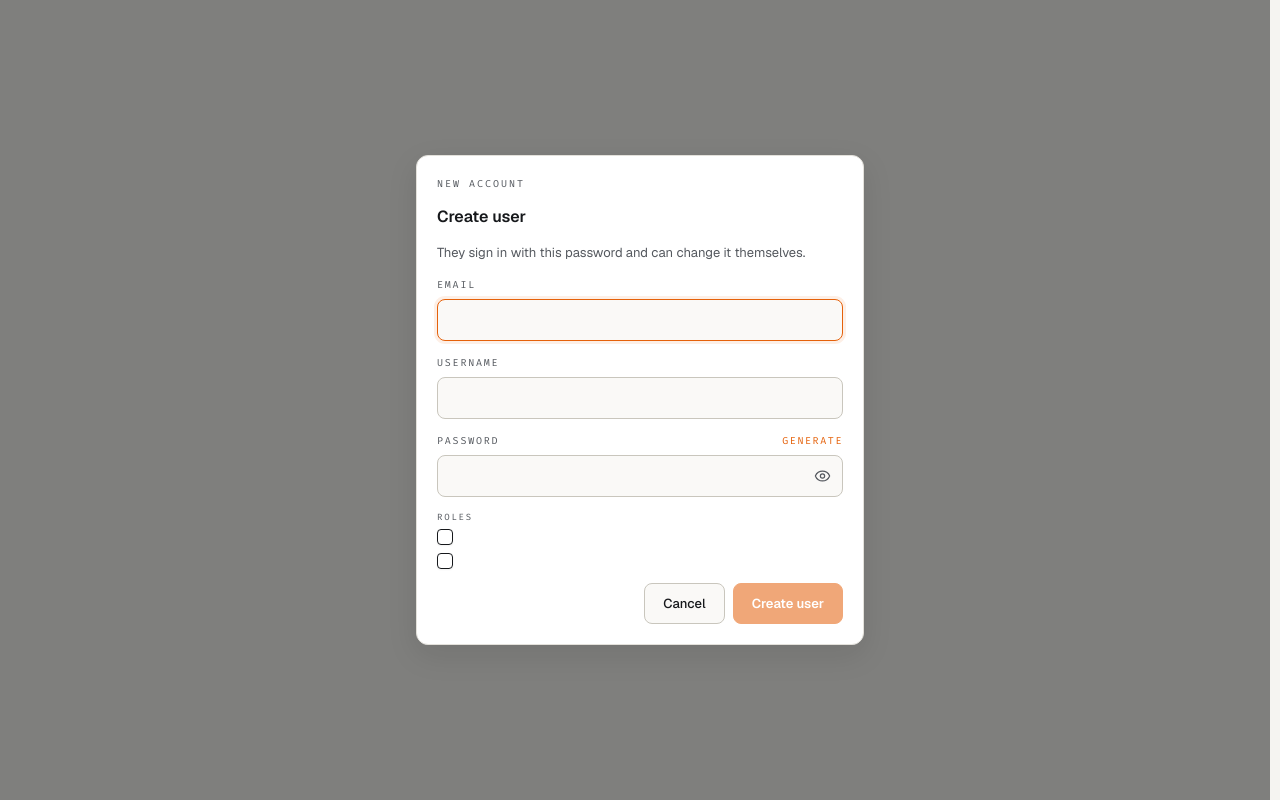
Scenario: CreateUserDialog › refuses a weak typed password before the gateway does
Type "a@x" into the field labelled "Email" at (640, 320), box [437,299,843,341]
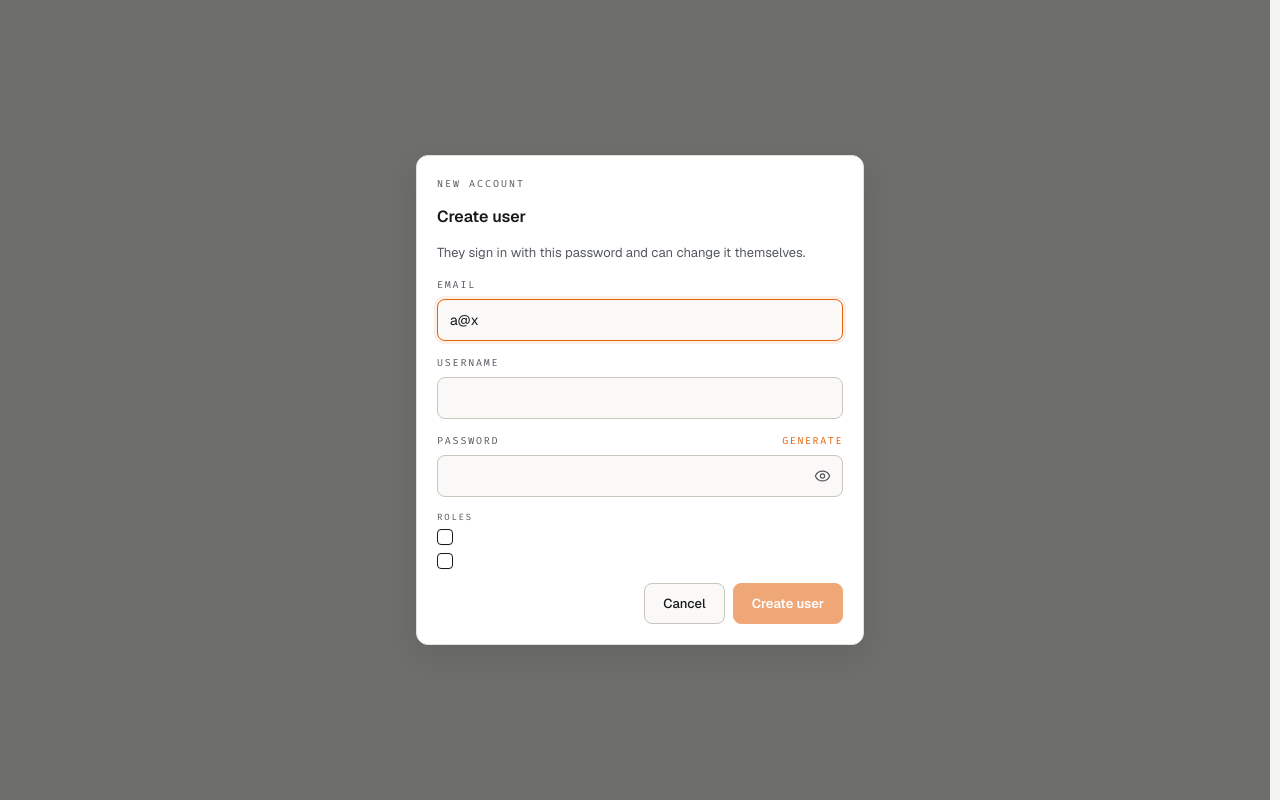
Type "a" into the field labelled "Username" at (640, 398), box [437,377,843,419]
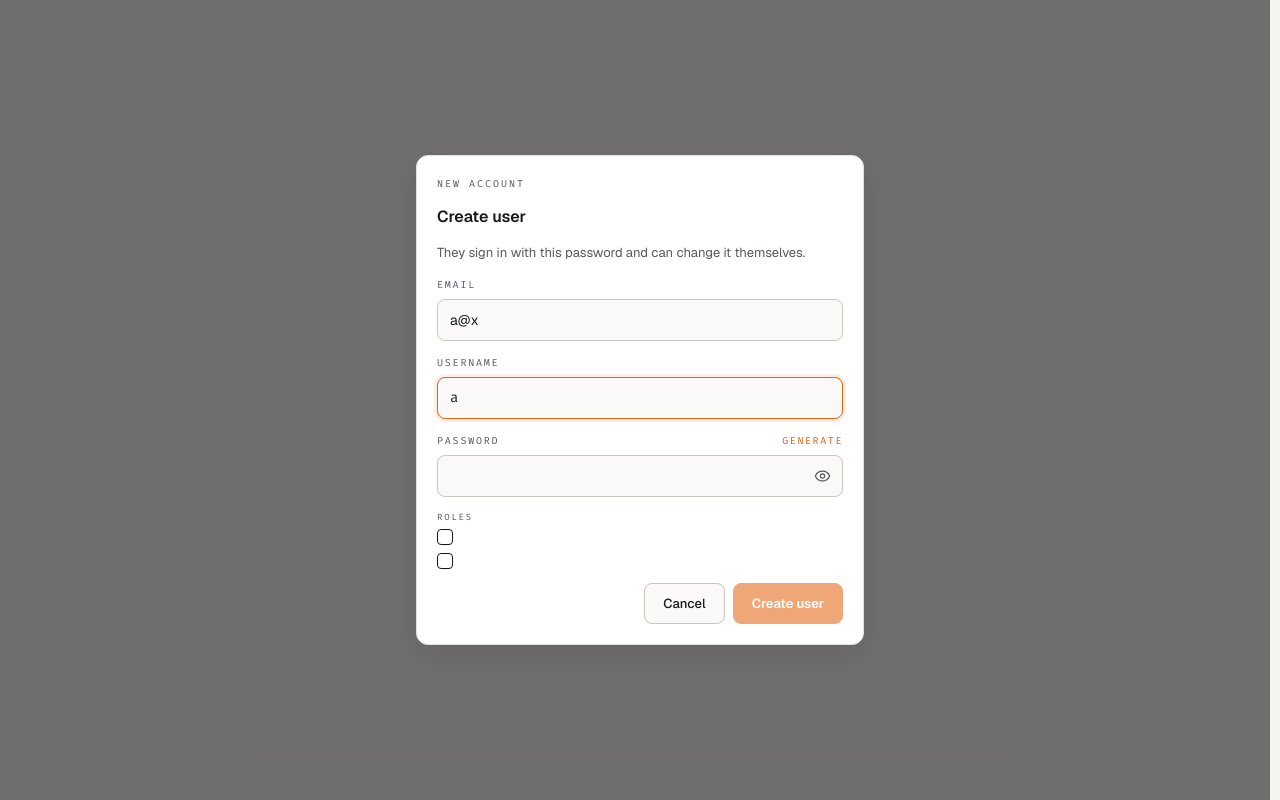
Type "s3cret!!" into the password field labelled "Password" at (640, 476), box [437,455,843,497]
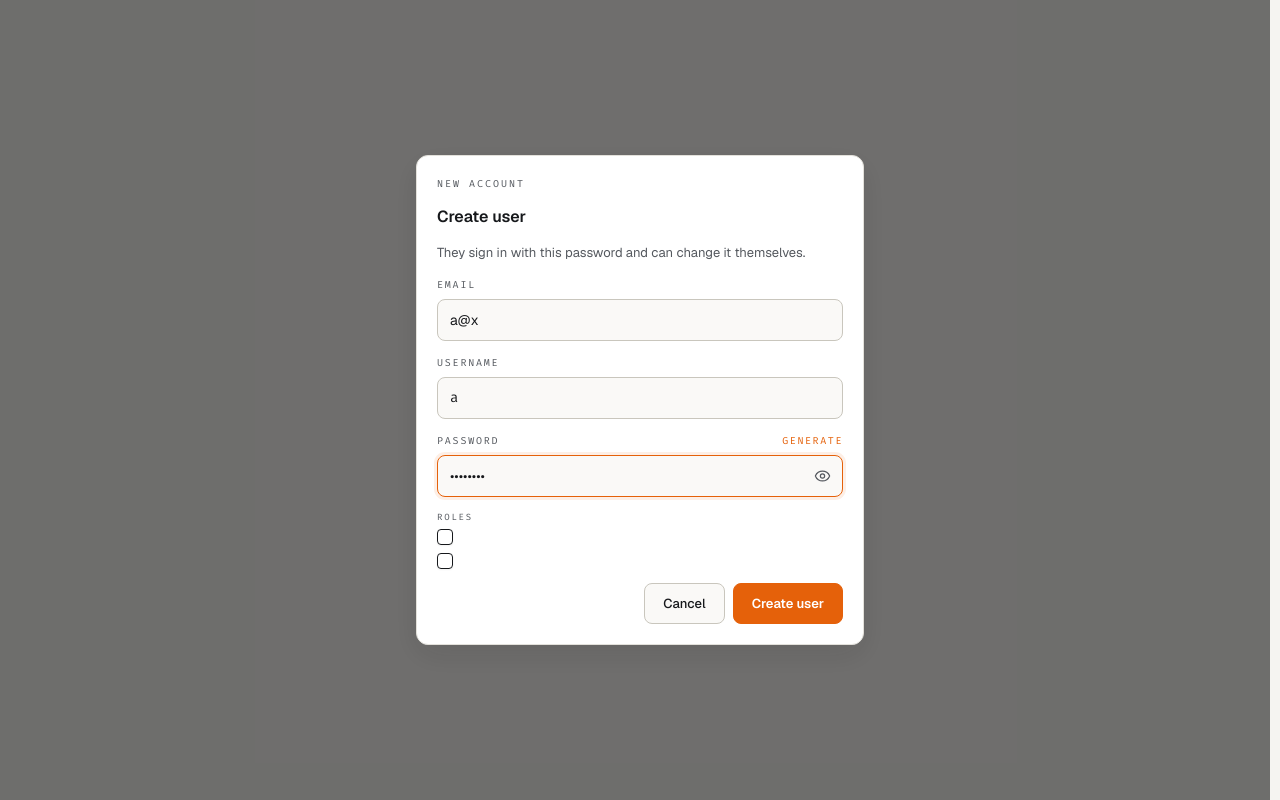
Click the button "Create user" at (788, 603), box [733,583,843,624]
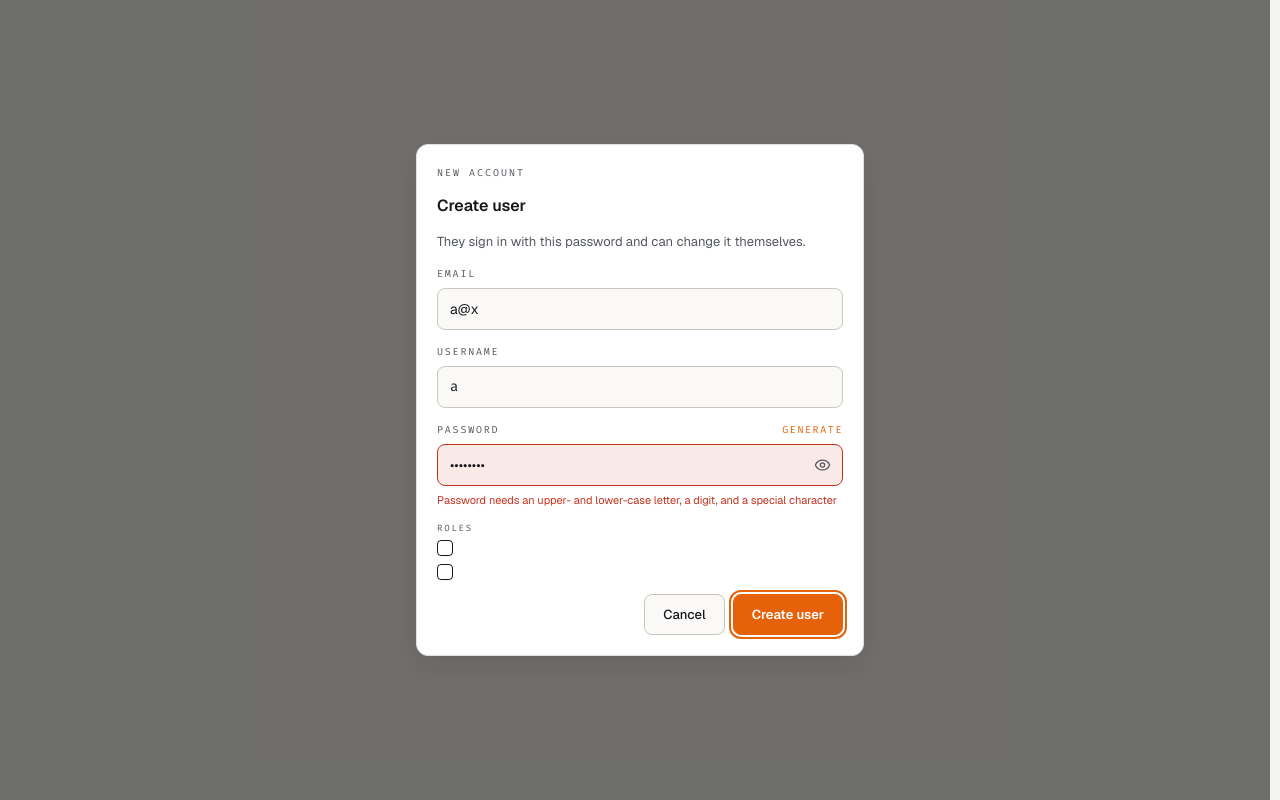
Expected: the text "Password needs an upper-" is shown, [437,493,837,507]
